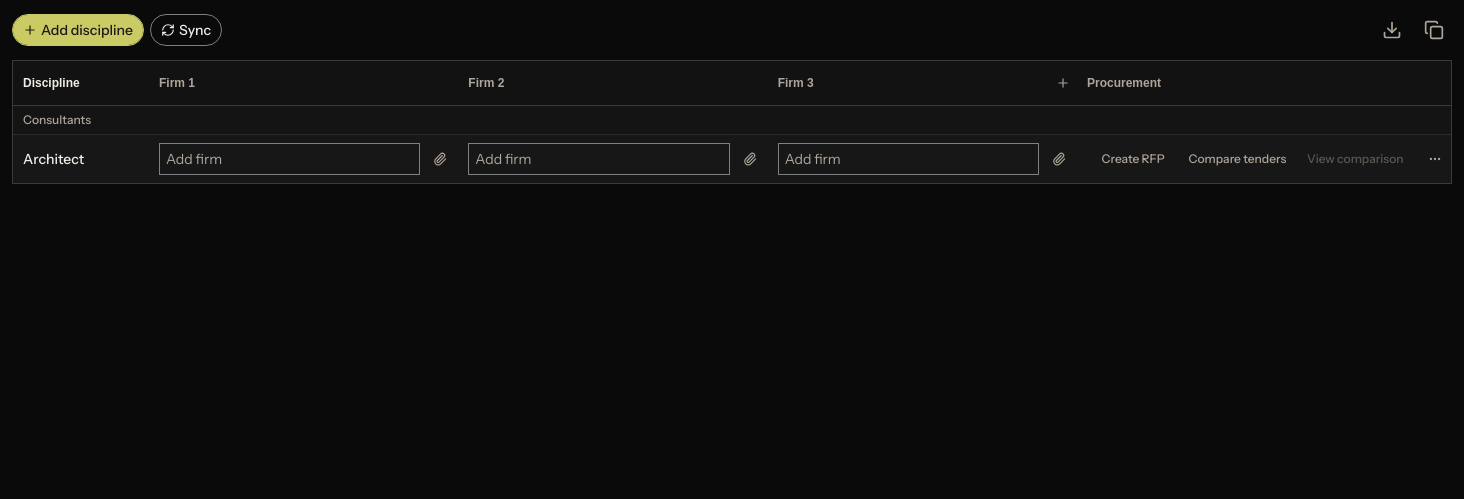
Test: ProcurementRequestPanel › keeps a deleted row removed when an older strategy reload finishes afterward
The width and height of the screenshot is (1464, 499).
What coordinates should you click on to do the following:
click the button named "Actions for Architect"
I would click on:
 (1435, 159)
Its box is [1423,147,1447,171].
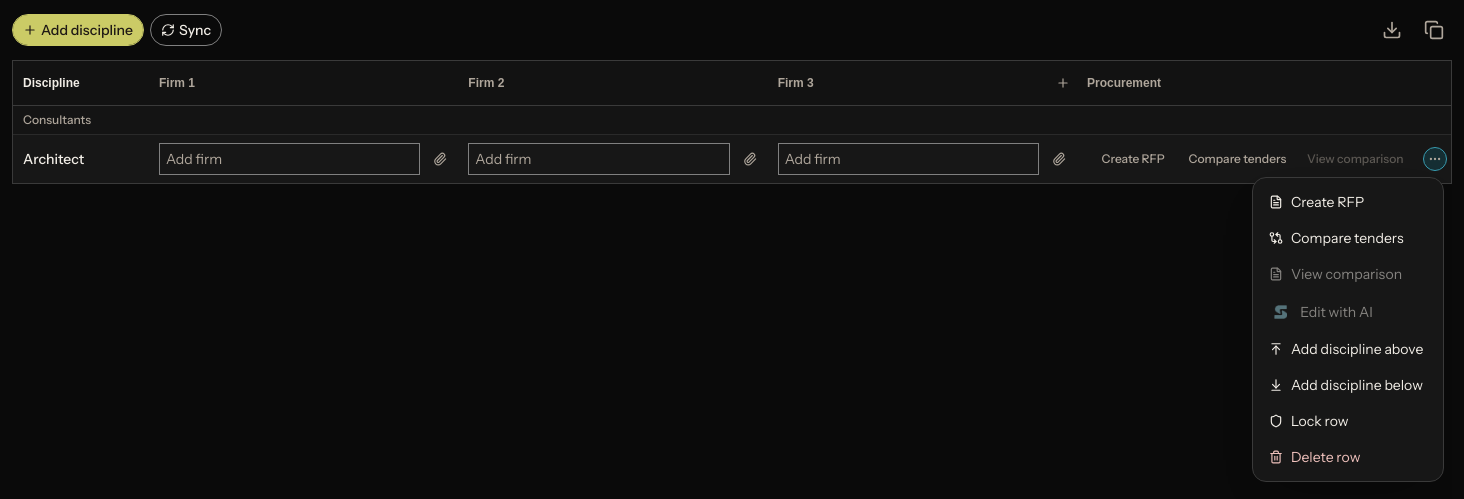
What coordinates should you click on to do the following:
click the menu item with aria-label "Delete Architect"
I would click on:
 (1315, 457)
Its box is [1269,448,1360,466].
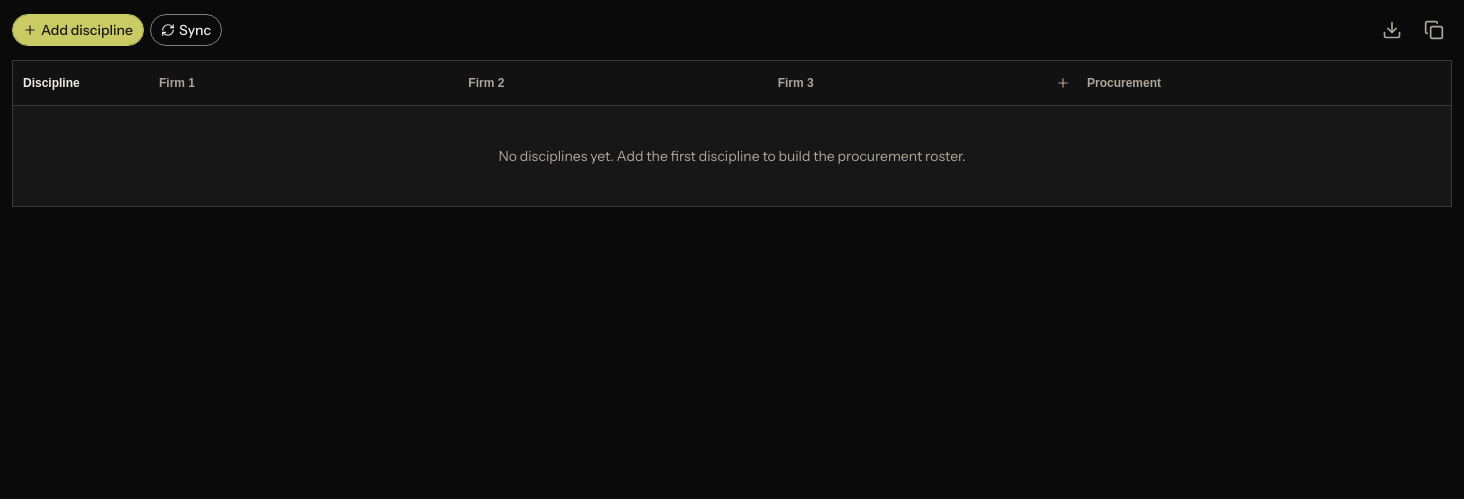
Now the text "Architect" is gone
